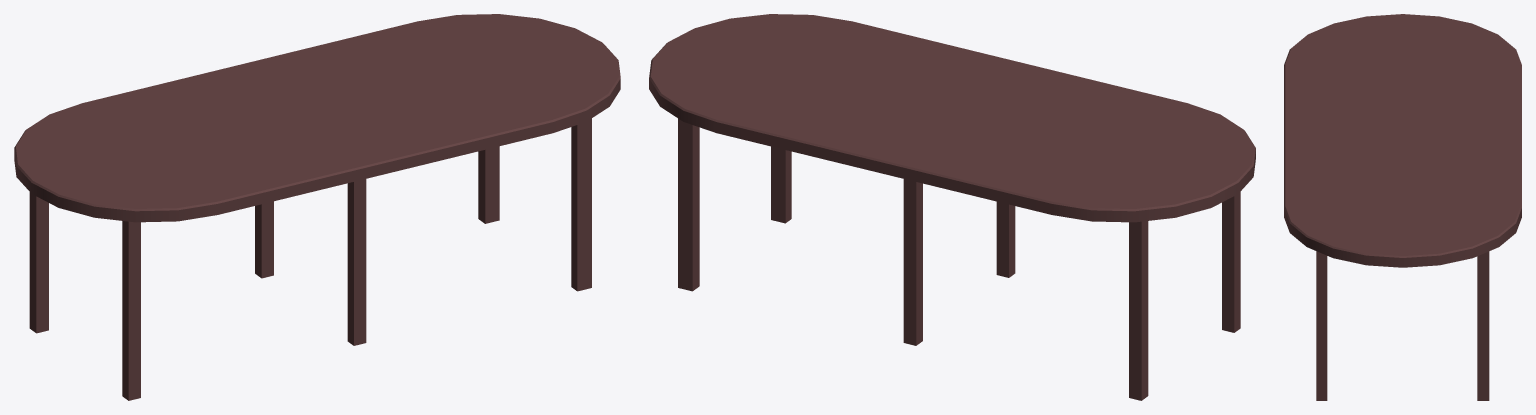
Rendered from table1.obj.
3 views of the same model, side by side, from view 1: azimuth 30°, elevation 25°; view 2: azimuth 150°, elevation 25°; view 3: azimuth 270°, elevation 25° (orthographic). The views are drawn at different scales.
Visible parts, largest first — view 1: table1; view 2: table1; view 3: table1.
Part boxes in pixels (x1,y1,x2,y2): table1: (14, 14, 620, 400); table1: (649, 14, 1255, 400); table1: (1284, 14, 1521, 400).
Size of the model in its own units: 2.24 by 0.7315 by 0.9273.
